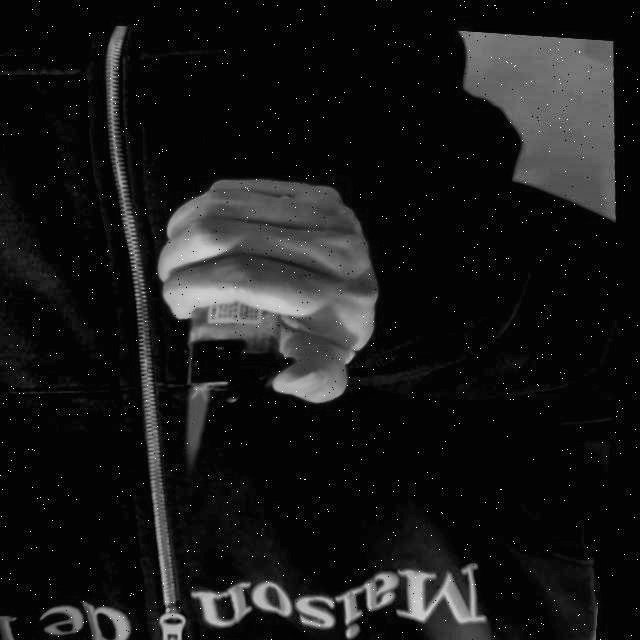Fire: (183, 381, 220, 460)
